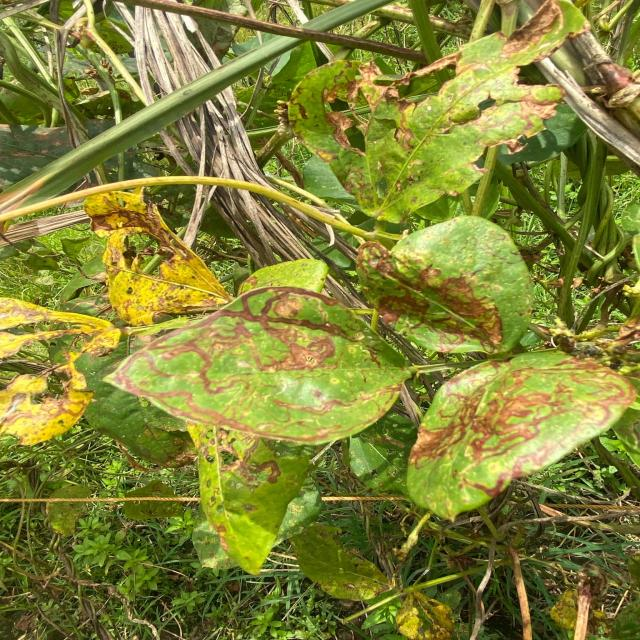leaf-moderate: (289, 0, 584, 222), (105, 286, 411, 444), (407, 351, 636, 519), (356, 216, 533, 358), (84, 188, 233, 326), (188, 425, 323, 574), (0, 298, 121, 445)
